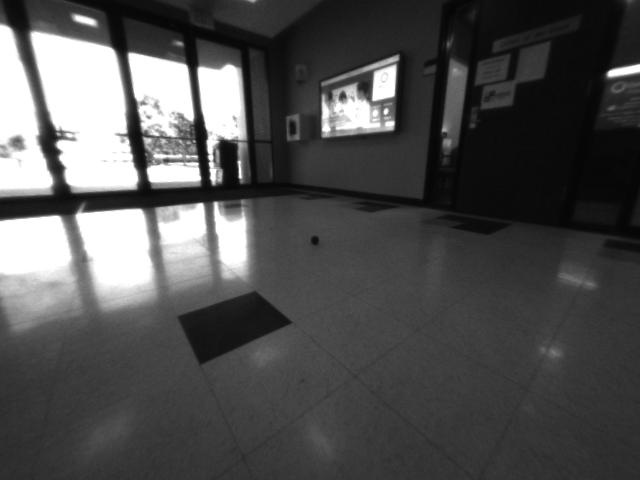dogtoy: (305, 230, 325, 248)
